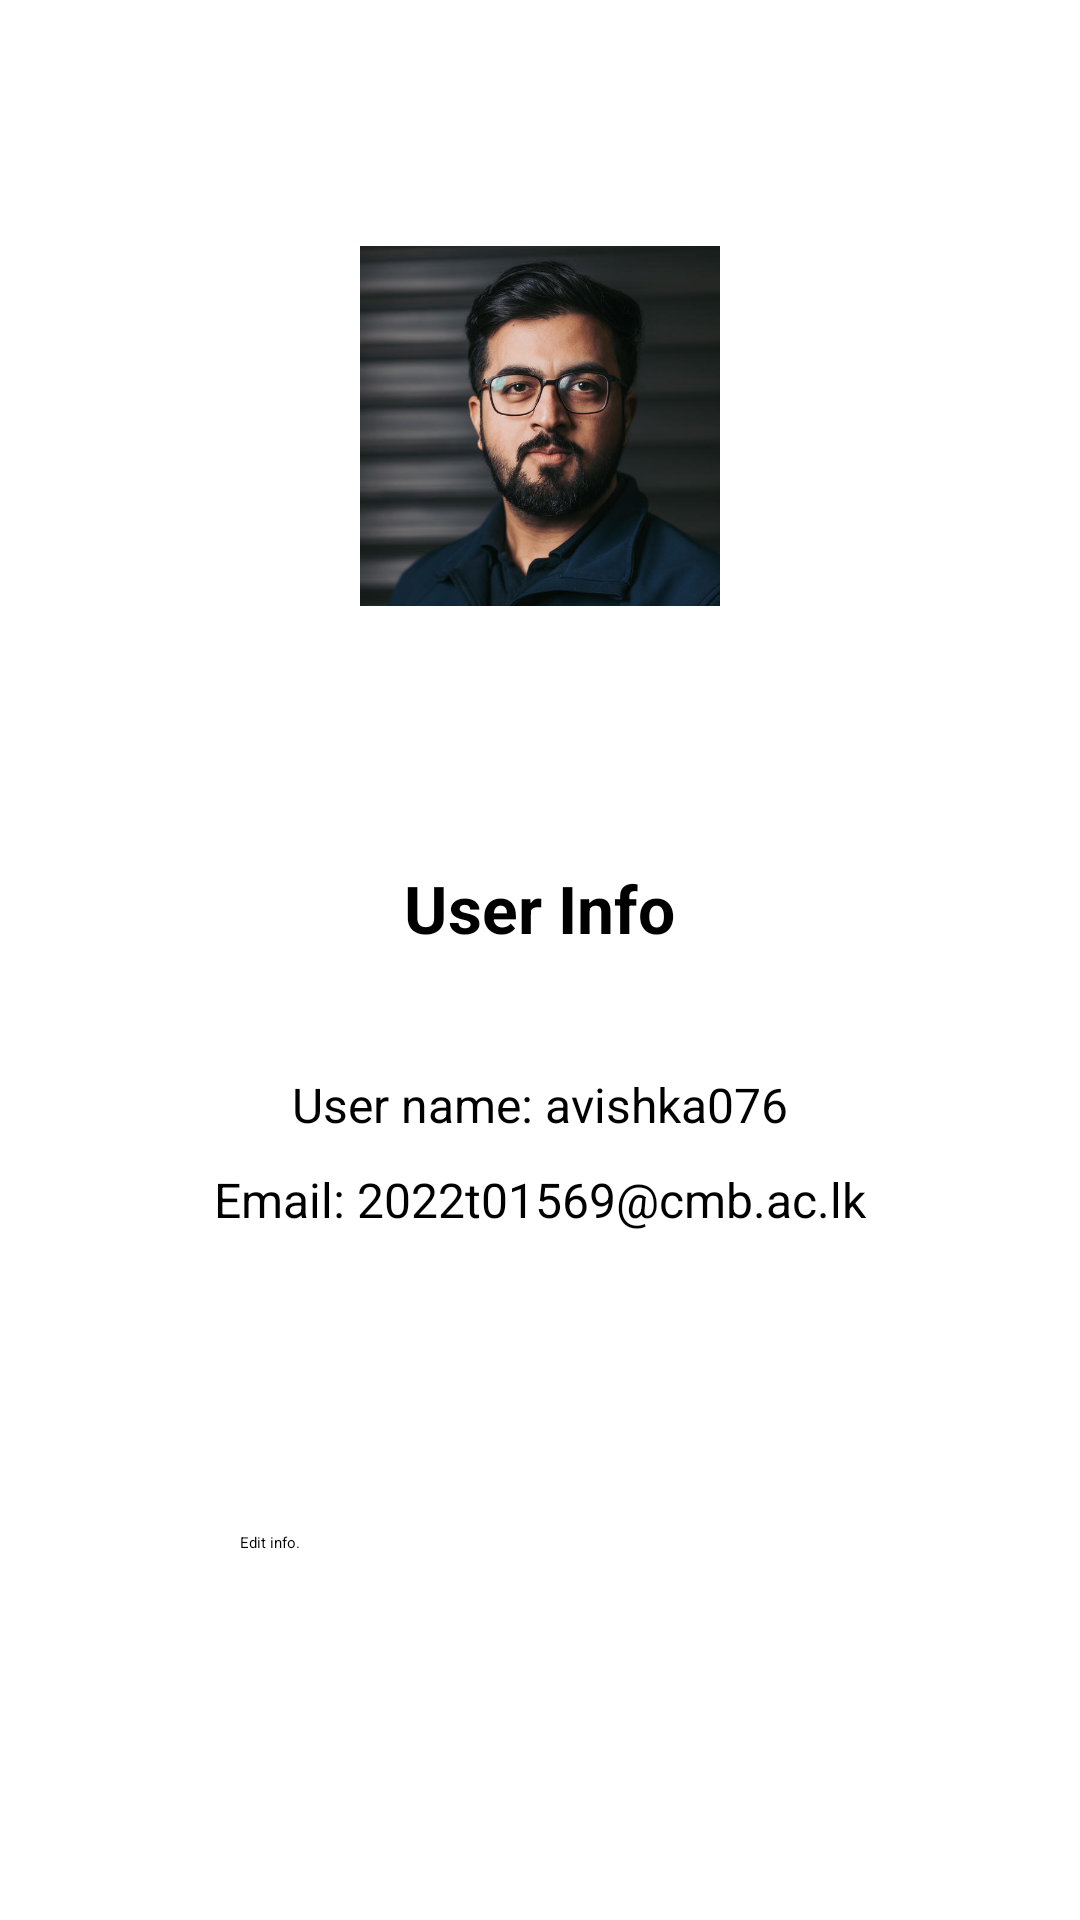

Screen size 1080w x 1920h. Icon name, then its center in pixels as (x=x, y=y):
profile: (x=540, y=426)
